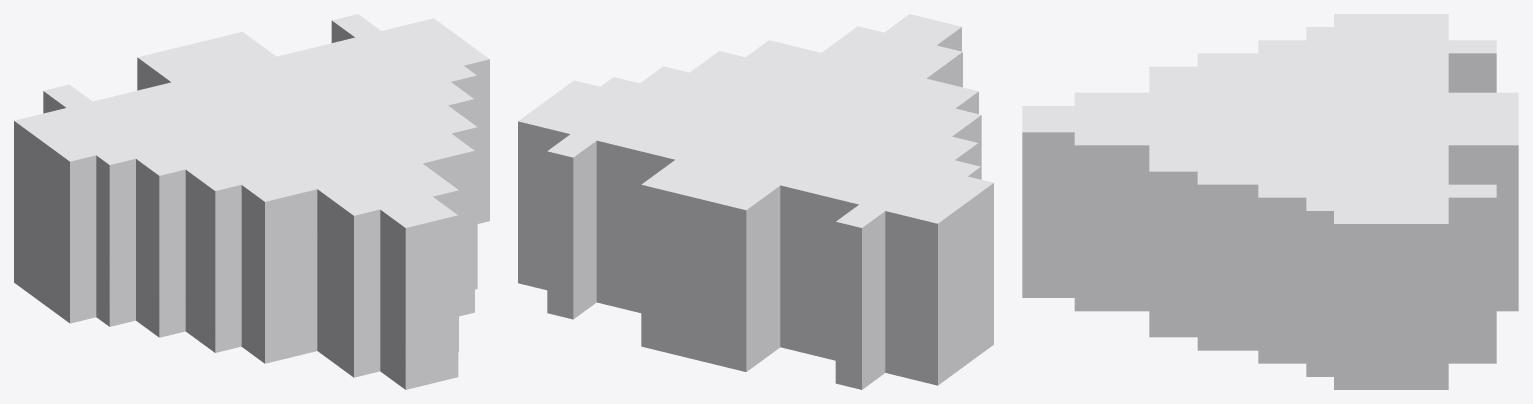
The model's file is player3D.obj.
The picture shows the model from 3 angles, left to right: view 1: azimuth 30°, elevation 25°; view 2: azimuth 150°, elevation 25°; view 3: azimuth 270°, elevation 25°; orthographic projection. The views are drawn at different scales.
Parts seen in each view (by area): view 1: Cube; view 2: Cube; view 3: Cube.
Part boxes in pixels (bbox=[...]): Cube: bbox=[14, 14, 489, 389]; Cube: bbox=[518, 14, 993, 389]; Cube: bbox=[1022, 14, 1518, 389].
Bounding box in the file's own units: 2 × 0.7368 × 2.
